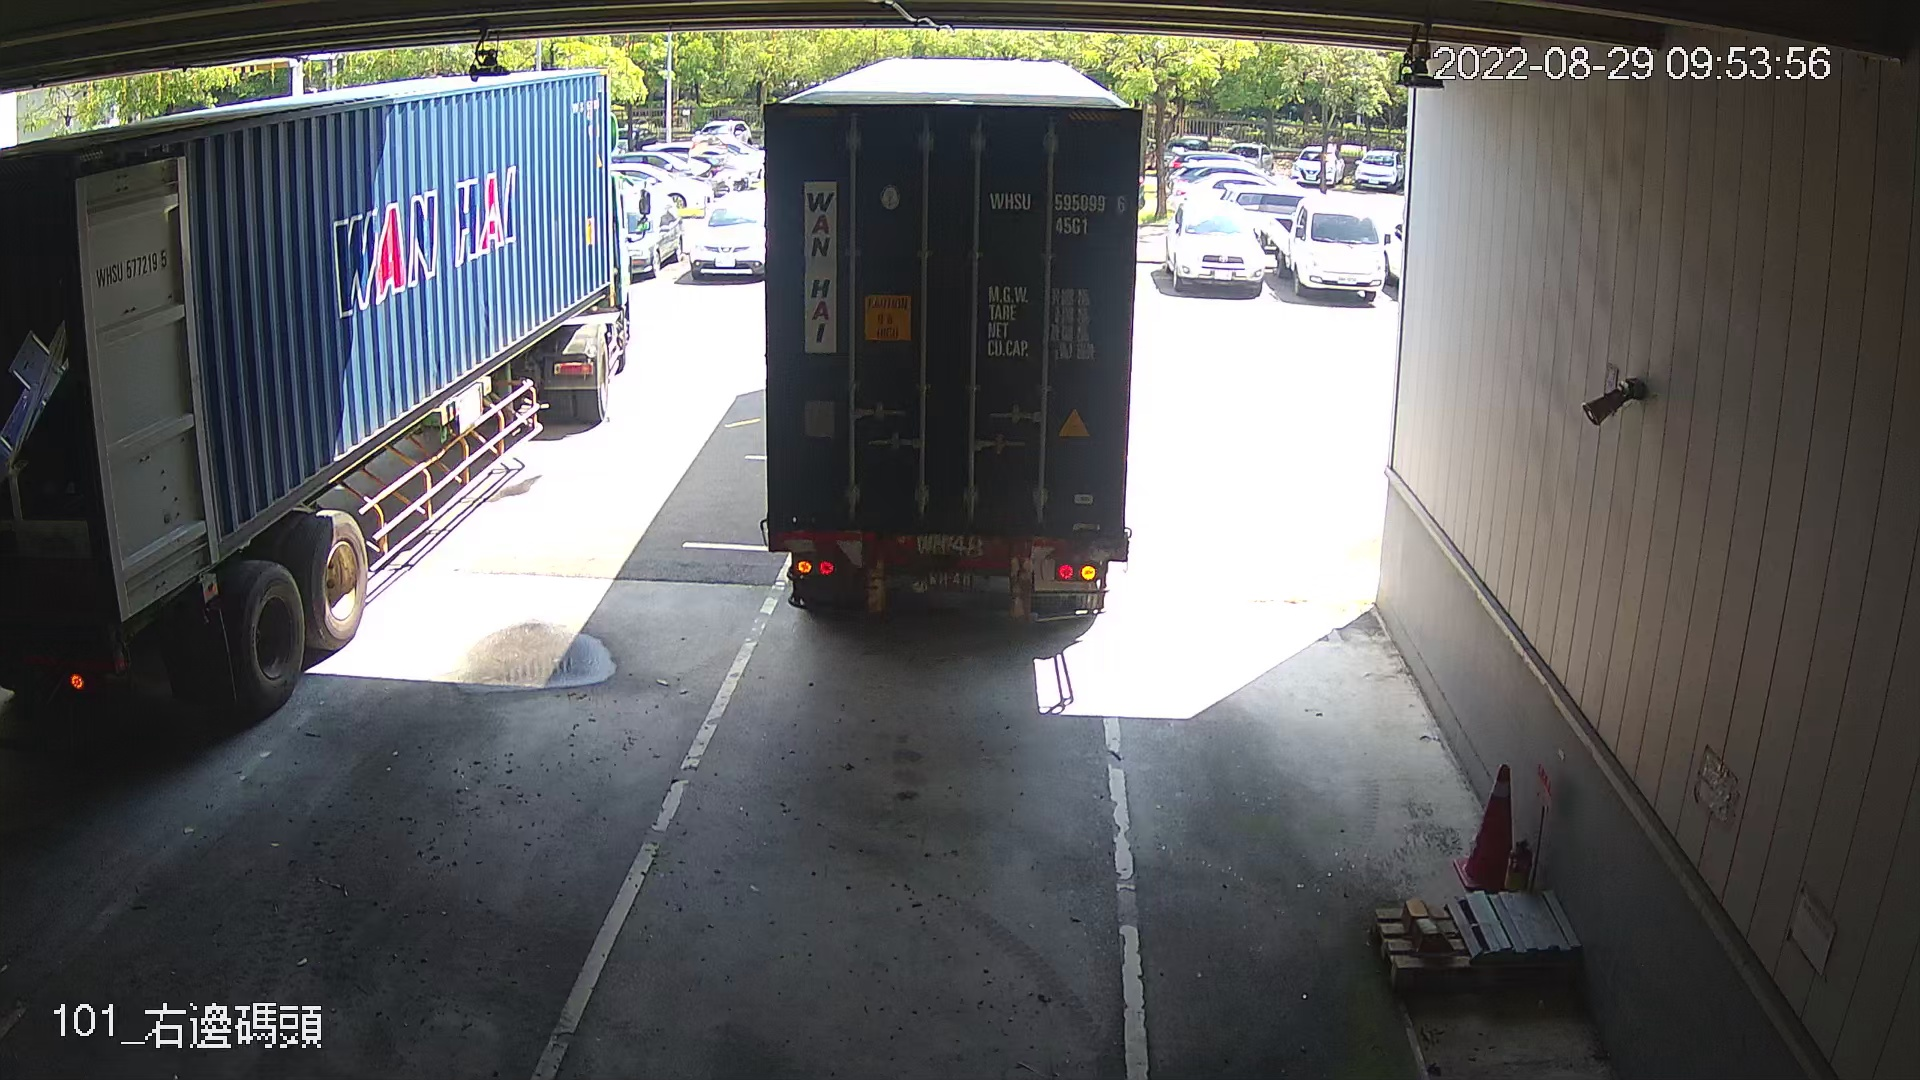container: (984, 183, 1131, 240)
